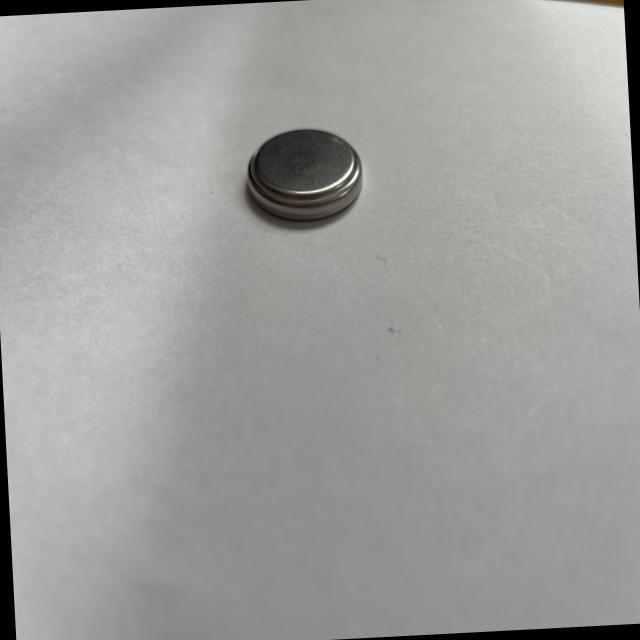COIN: (242, 125, 367, 226)
